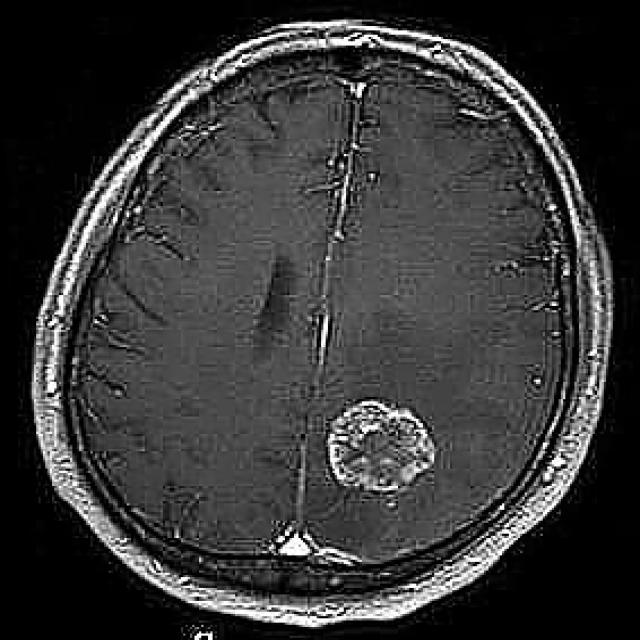Tumor-Cell: (324, 371, 456, 501)
